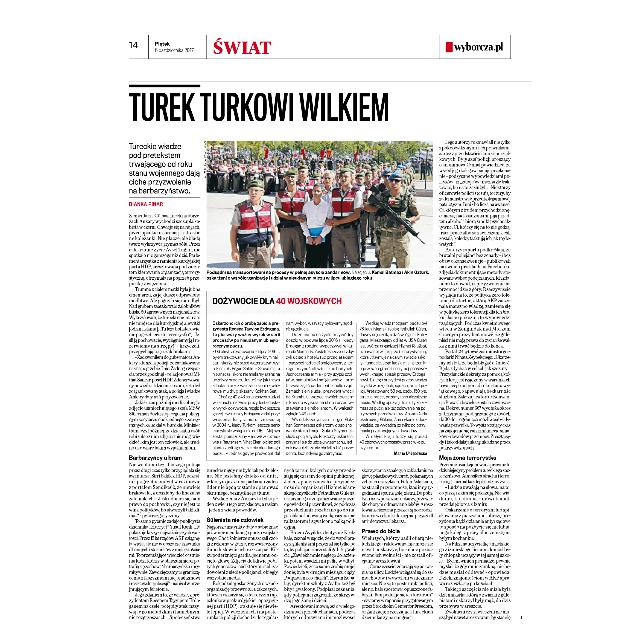article: (128, 83, 514, 623)
